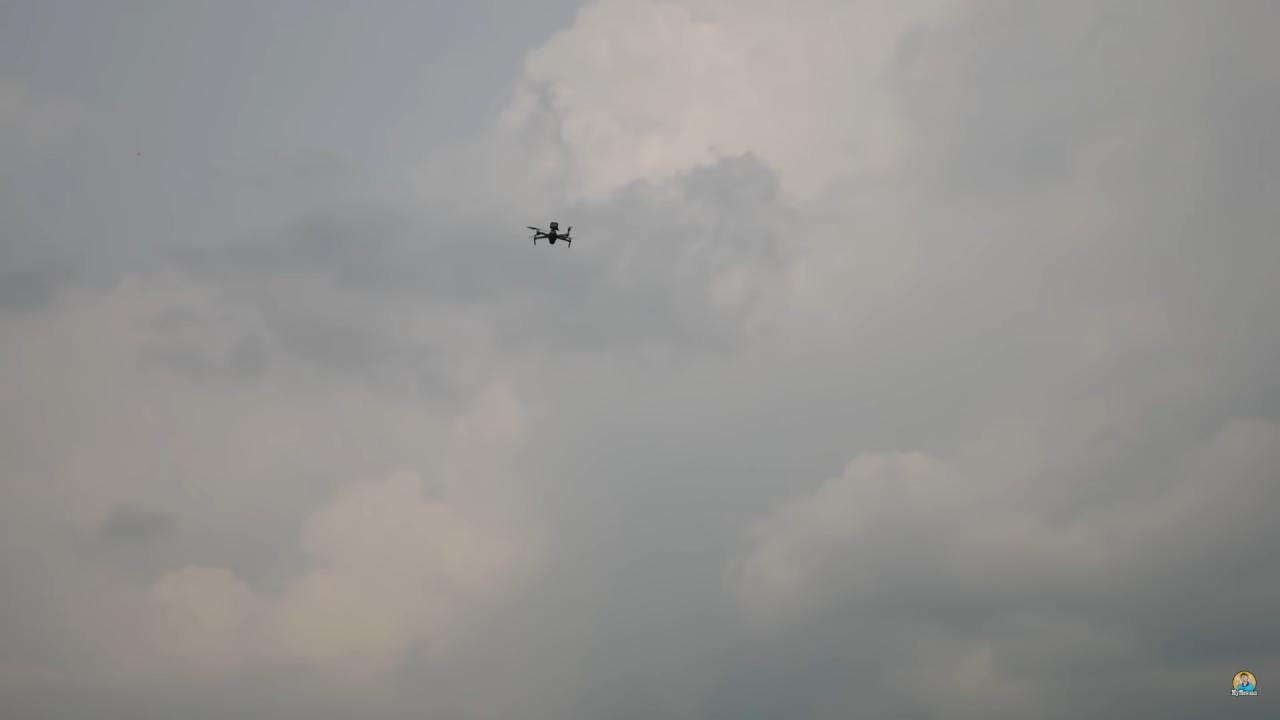Drone: (517, 213, 583, 255)
